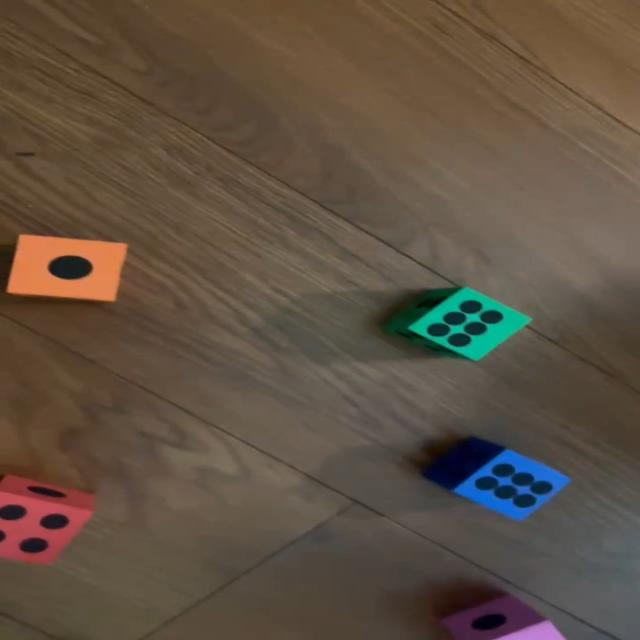blue_block: (421, 436, 571, 520)
red_block: (0, 475, 94, 564)
